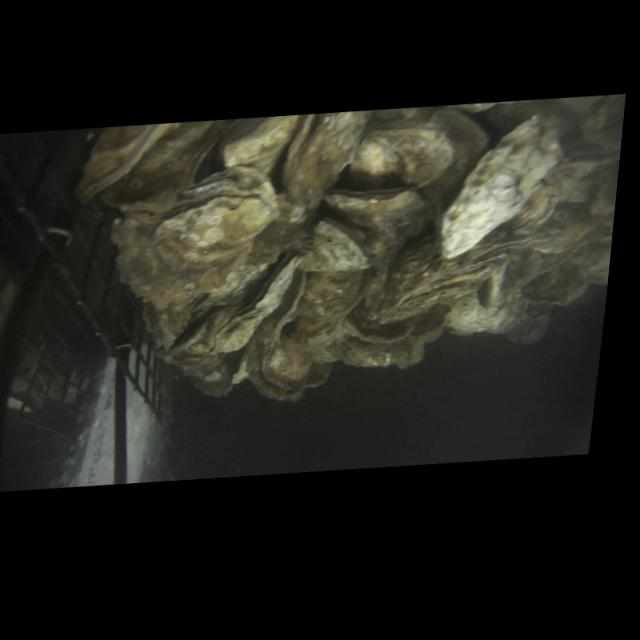Oyster-Closed: (111, 166, 279, 348), (440, 114, 562, 258), (103, 120, 226, 212), (282, 110, 369, 208), (76, 124, 177, 202), (349, 128, 453, 189), (321, 185, 433, 232), (220, 115, 300, 173), (301, 221, 369, 272), (580, 94, 626, 150)
Oyster-Open: (208, 246, 307, 358), (246, 338, 313, 400), (341, 303, 416, 343), (193, 361, 240, 397)
